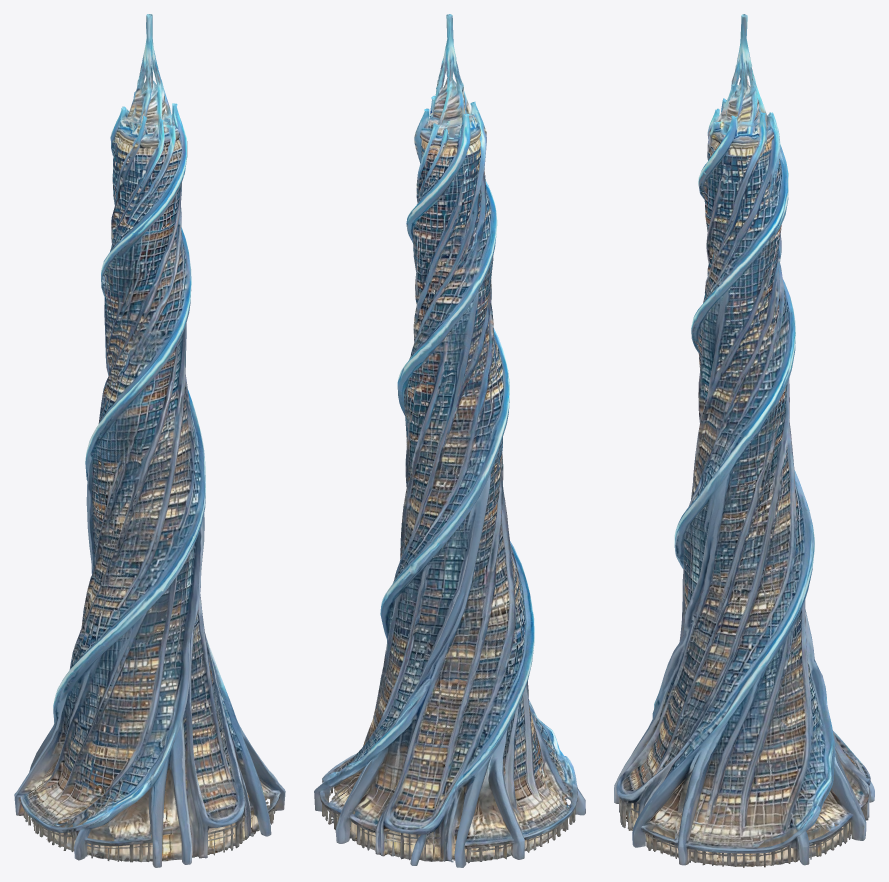
The model's file is tower-a.glb.
3 renders of one model, left to right at view 1: azimuth 30°, elevation 25°; view 2: azimuth 150°, elevation 25°; view 3: azimuth 270°, elevation 25°, orthographic.
Visible parts, largest first — view 1: SM_tower_a; view 2: SM_tower_a; view 3: SM_tower_a.
Boxes of the visible parts, x1,y1,x2,y2 form: SM_tower_a: [14, 14, 285, 867]; SM_tower_a: [314, 14, 585, 867]; SM_tower_a: [614, 14, 874, 867].
Size of the model in its own units: 0.2901 by 0.9829 by 0.2897.
1 material, 1 textured.
